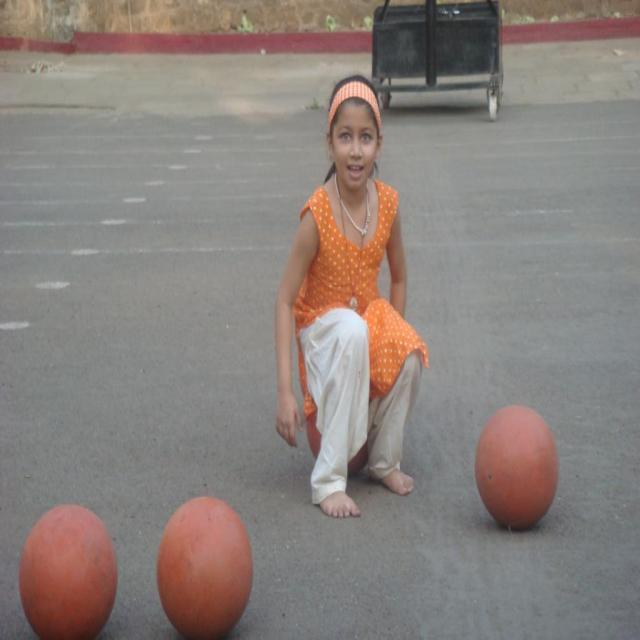Face: (335, 104, 378, 186)
